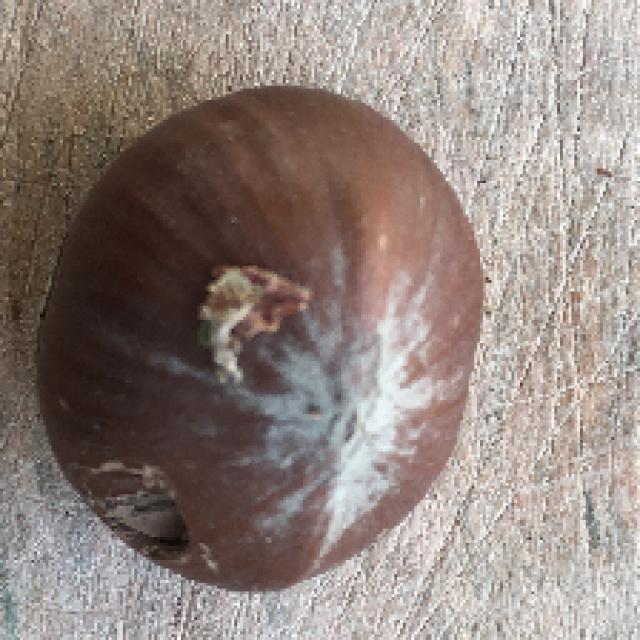damagedHazelnut: (44, 88, 502, 598)
